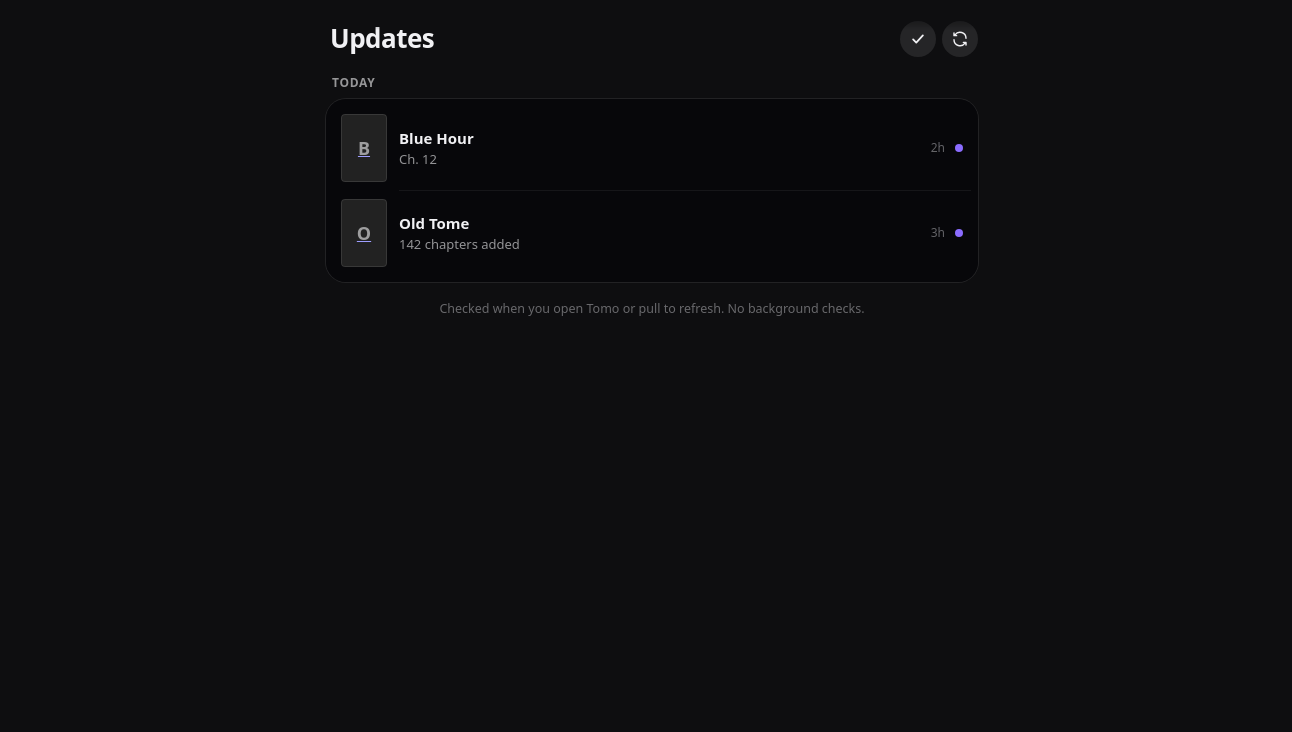
Test case: shows a back catalogue fetched in one go as one row that opens the title
This screenshot has width=1292, height=732.
Expected: the text "142 chapters added" is shown, [399,234,520,252]
Click the link with aria-label "Old Tome, 142 chapters added, 142 unread, 3h" at {"x": 434, "y": 223}, box [399,213,963,253]
(page scrolled)
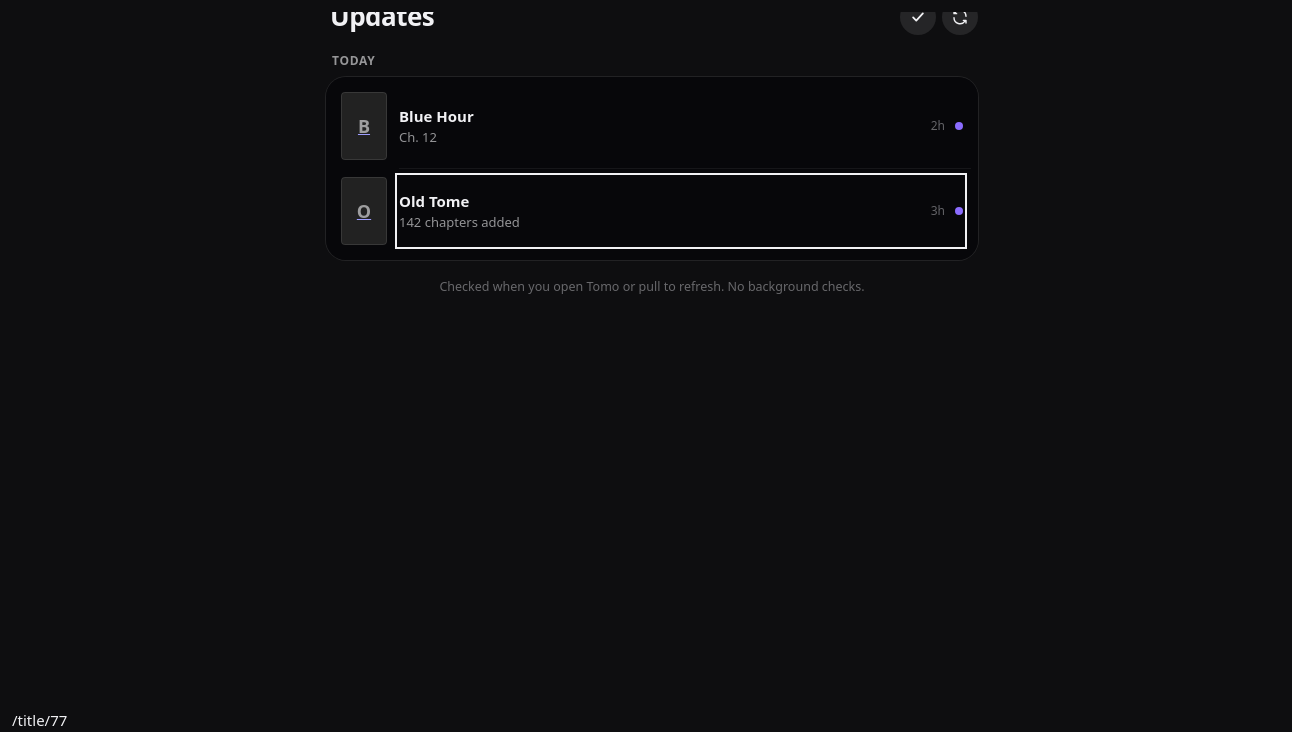
Result: the text with test id "location" reads "/title/77" at [12,710,67,730]
